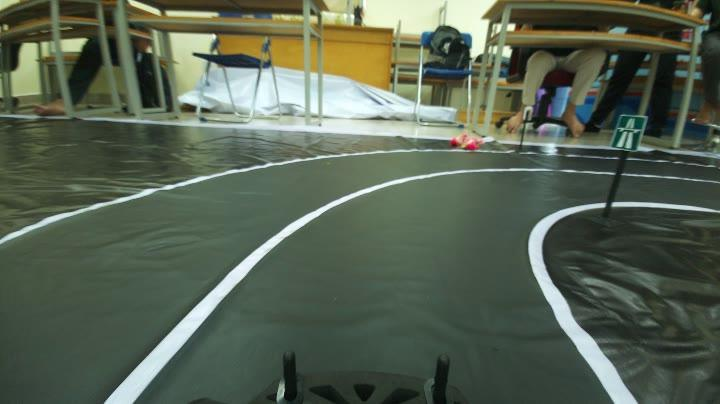highway_entry: (608, 108, 646, 154)
